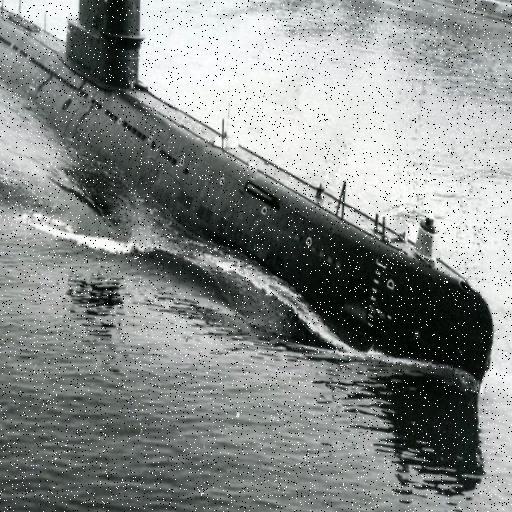submarine: (1, 1, 498, 395)
